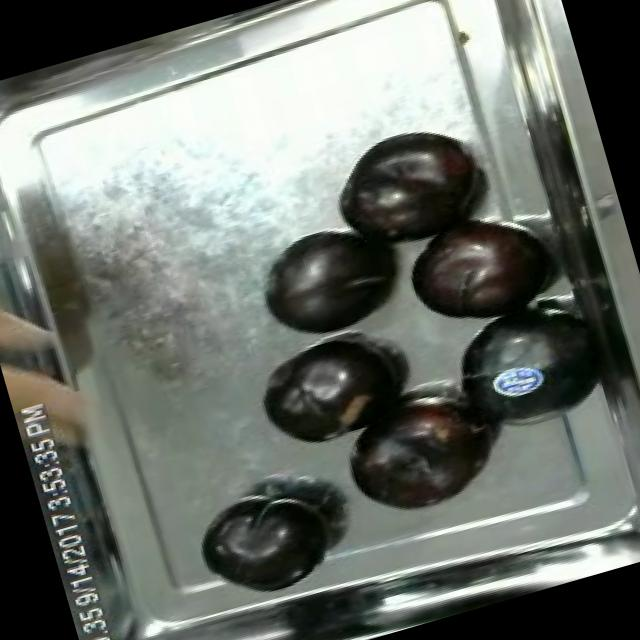Fruit: (326, 370, 514, 535), (318, 110, 497, 266), (386, 195, 564, 346), (241, 316, 421, 463), (241, 209, 419, 357), (187, 473, 346, 610)
